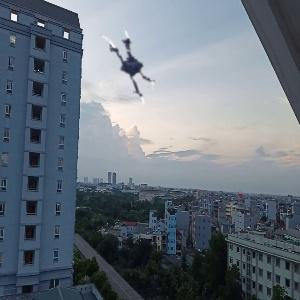drone: (83, 28, 165, 110)
